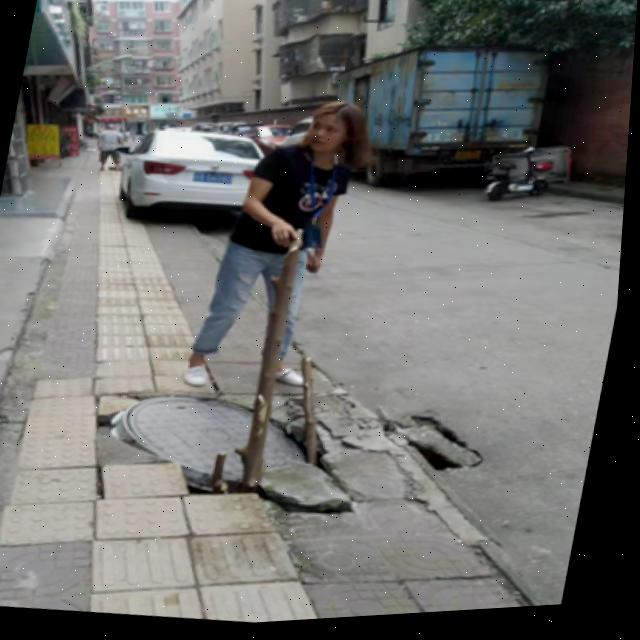manhole: (88, 367, 384, 533)
